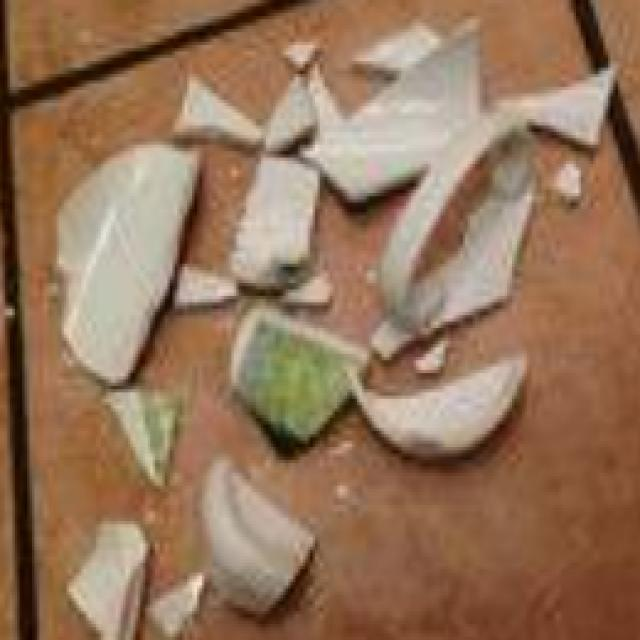PecahanKaca: (54, 10, 616, 463), (52, 135, 202, 386), (226, 299, 370, 444), (195, 453, 315, 618)
